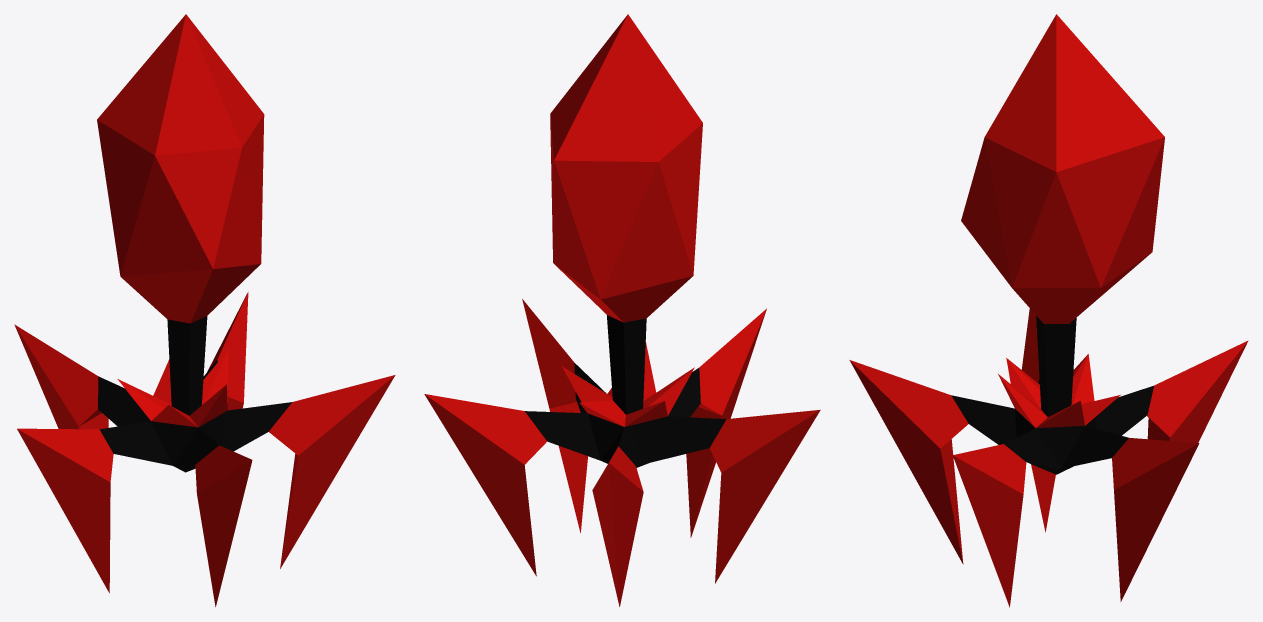
The model's file is Virus.fbx.
3 views of the same model, side by side, from view 1: azimuth 30°, elevation 25°; view 2: azimuth 150°, elevation 25°; view 3: azimuth 270°, elevation 25° (orthographic).
Visible parts, largest first — view 1: Icosphere.001; view 2: Icosphere.001; view 3: Icosphere.001.
Part boxes in pixels (x1,y1,x2,y2): Icosphere.001: (14, 14, 395, 606); Icosphere.001: (424, 14, 820, 606); Icosphere.001: (849, 14, 1248, 607).
Bounding box in the file's own units: 1067 × 1671 × 1082.
